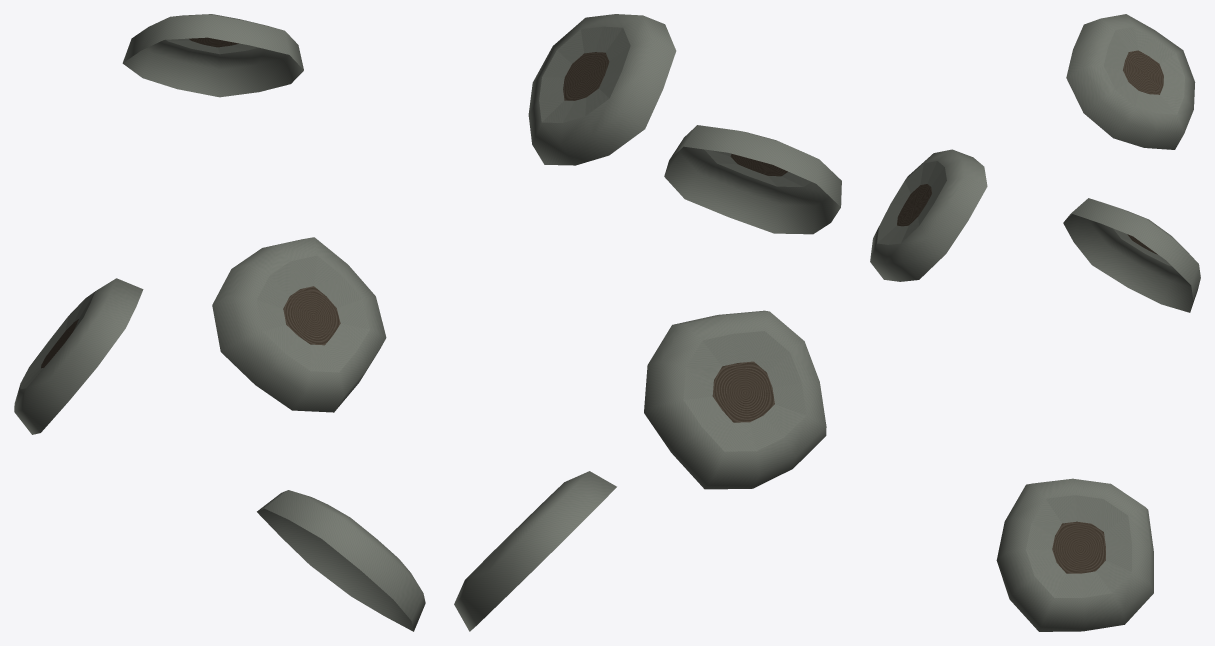
File: Beech_Mature_01_LowPruned_Healed_LOD1.fbx
3 renders of one model, left to right at view 1: azimuth 30°, elevation 25°; view 2: azimuth 150°, elevation 25°; view 3: azimuth 270°, elevation 25°, orthographic. The views are drawn at different scales.
Parts seen in each view (by area): view 1: Beech_Mature_01_LowPruned_Healed_LOD1_Scars; view 2: Beech_Mature_01_LowPruned_Healed_LOD1_Scars; view 3: Beech_Mature_01_LowPruned_Healed_LOD1_Scars.
Part boxes in pixels (x1=…): Beech_Mature_01_LowPruned_Healed_LOD1_Scars: x1=14, y1=14, x2=425, y2=631; Beech_Mature_01_LowPruned_Healed_LOD1_Scars: x1=454, y1=14, x2=841, y2=631; Beech_Mature_01_LowPruned_Healed_LOD1_Scars: x1=870, y1=14, x2=1200, y2=631.
Size of what is drawn, in the model's own units: 140 by 232 by 128.
2 materials, 2 textured.
